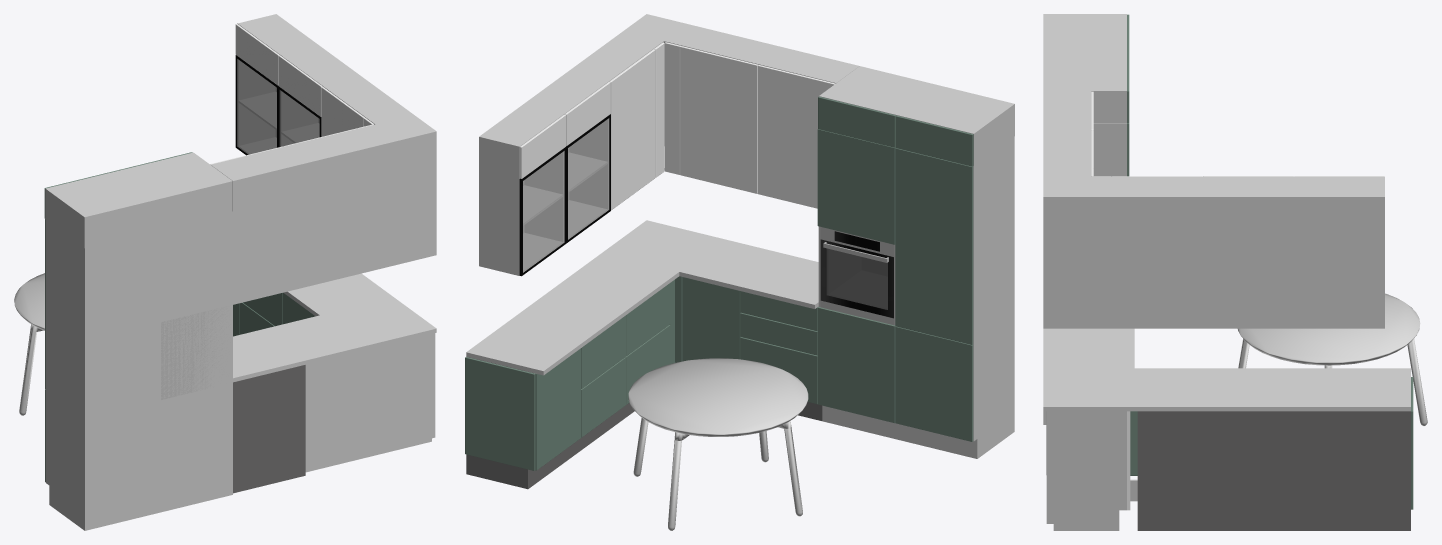
The picture shows the model from 3 angles, left to right: view 1: azimuth 30°, elevation 25°; view 2: azimuth 150°, elevation 25°; view 3: azimuth 270°, elevation 25°; orthographic projection. The views are drawn at different scales.
Parts seen in each view (by area): view 1: Кухня красивая 29.03; view 2: Кухня красивая 29.03; view 3: Кухня красивая 29.03.
Part boxes in pixels (x1=…): Кухня красивая 29.03: x1=14, y1=14, x2=436, y2=530; Кухня красивая 29.03: x1=465, y1=14, x2=1014, y2=530; Кухня красивая 29.03: x1=1043, y1=14, x2=1427, y2=530.
Size of the model in its own units: 8243 by 7016 by 7313.
